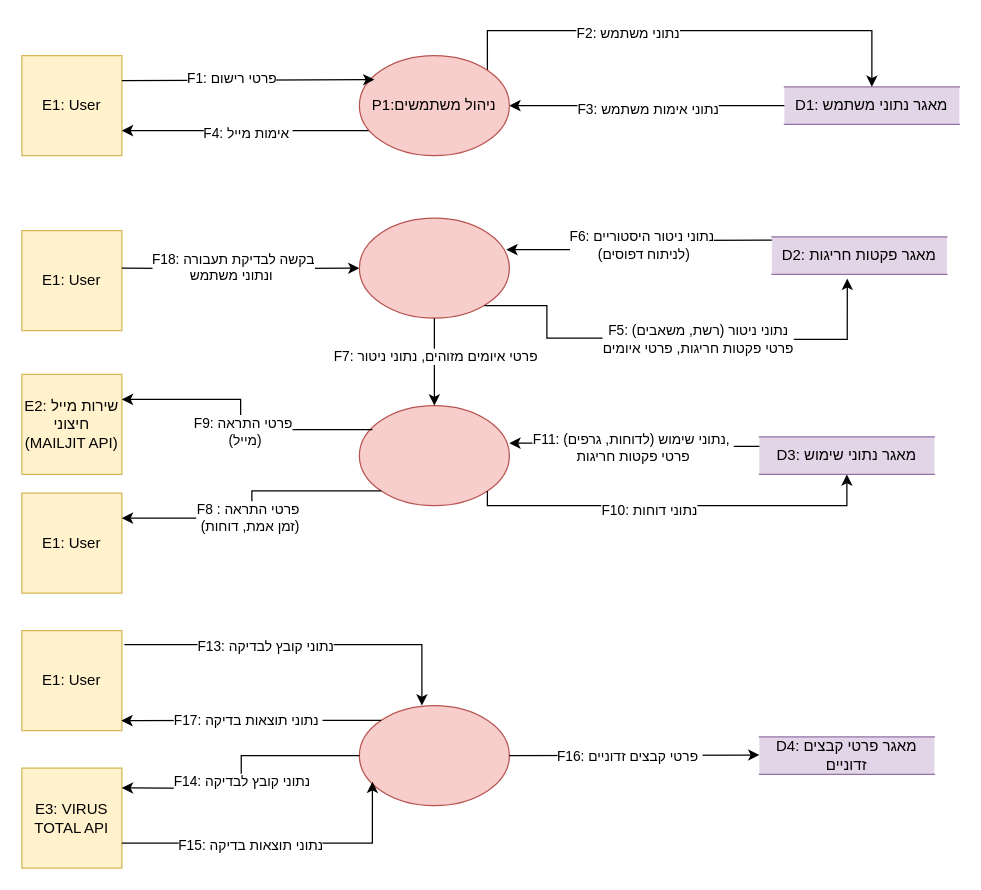
Image size: 981x890. Some labels were removed from this diagram. The shapes that lost their labels are listed below. From the top down, each one's centre as x and y in pixels, then its label:
At pixel 433 267: "P2:ניטור וזיהוי איומים".
At pixel 433 455: "P3: ניהול התראות ודוחות".
At pixel 433 755: "P4: בדיקת קבצים".
